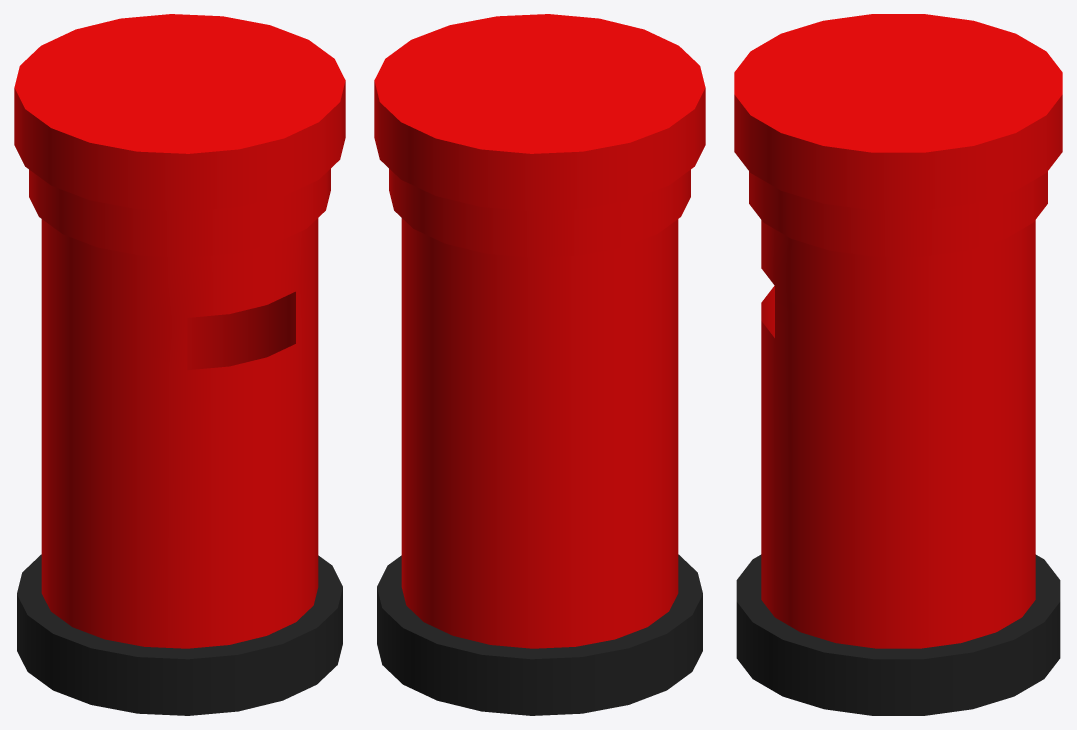
The model's file is extra_Post_Box.obj.
3 views of the same model, side by side, from view 1: azimuth 30°, elevation 25°; view 2: azimuth 150°, elevation 25°; view 3: azimuth 270°, elevation 25° (orthographic).
Parts seen in each view (by area): view 1: pCylinder5; view 2: pCylinder5; view 3: pCylinder5.
Part boxes in pixels (box(x1,y1,x2,y2)): pCylinder5: box(14, 14, 345, 715); pCylinder5: box(374, 14, 705, 715); pCylinder5: box(734, 14, 1062, 715).
Bounding box in the file's own units: 1.53 × 2.91 × 1.53.
